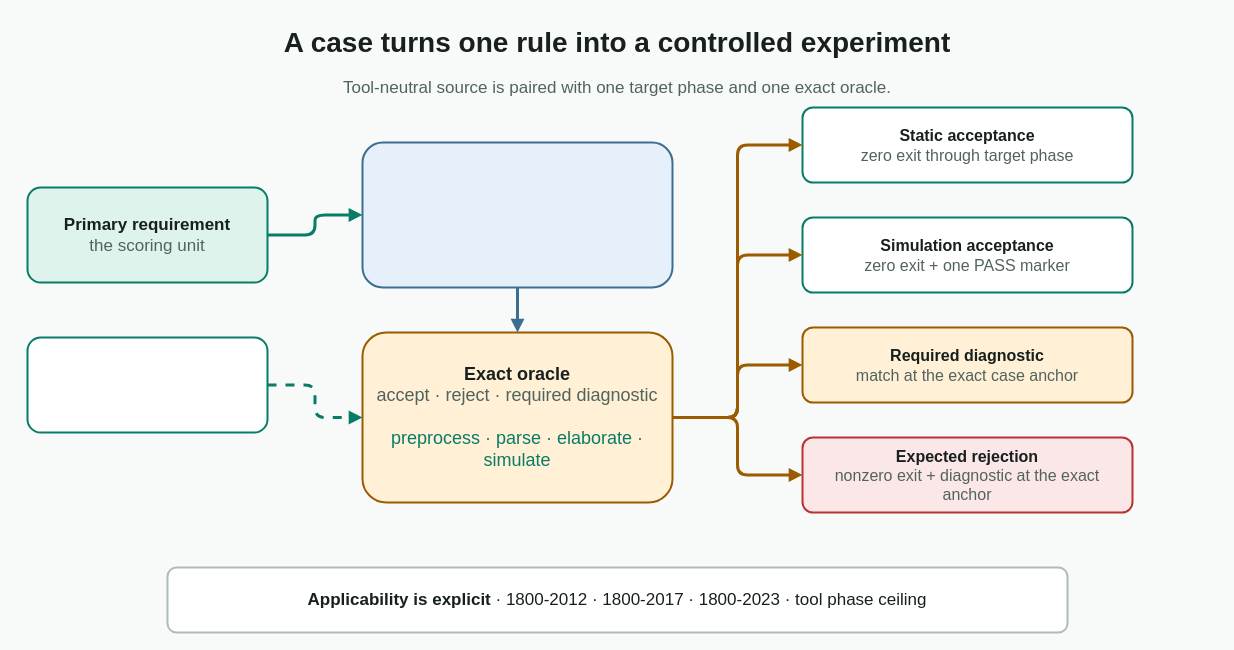
Some shapes in this 1234 by 650 pixel diagram are drawn without their labels. The shapes that lost their labels are listed below. From the top down, each one's box as (x1, y1, x2, y2) in pixels, then its label:
(361, 141, 673, 288): Minimal source top.sv · ordered files defines · includes · limits
(26, 336, 268, 433): Related requirements traceable context
